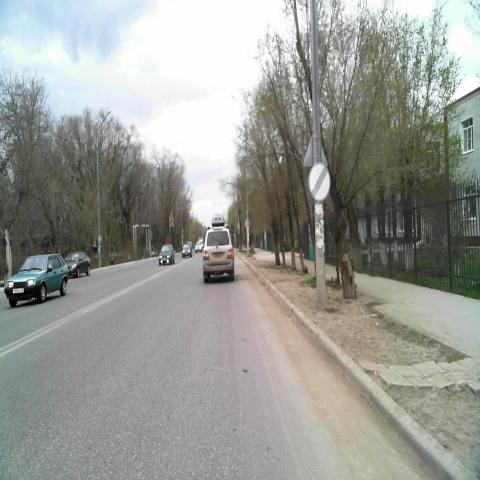3_31: (308, 162, 331, 200)
